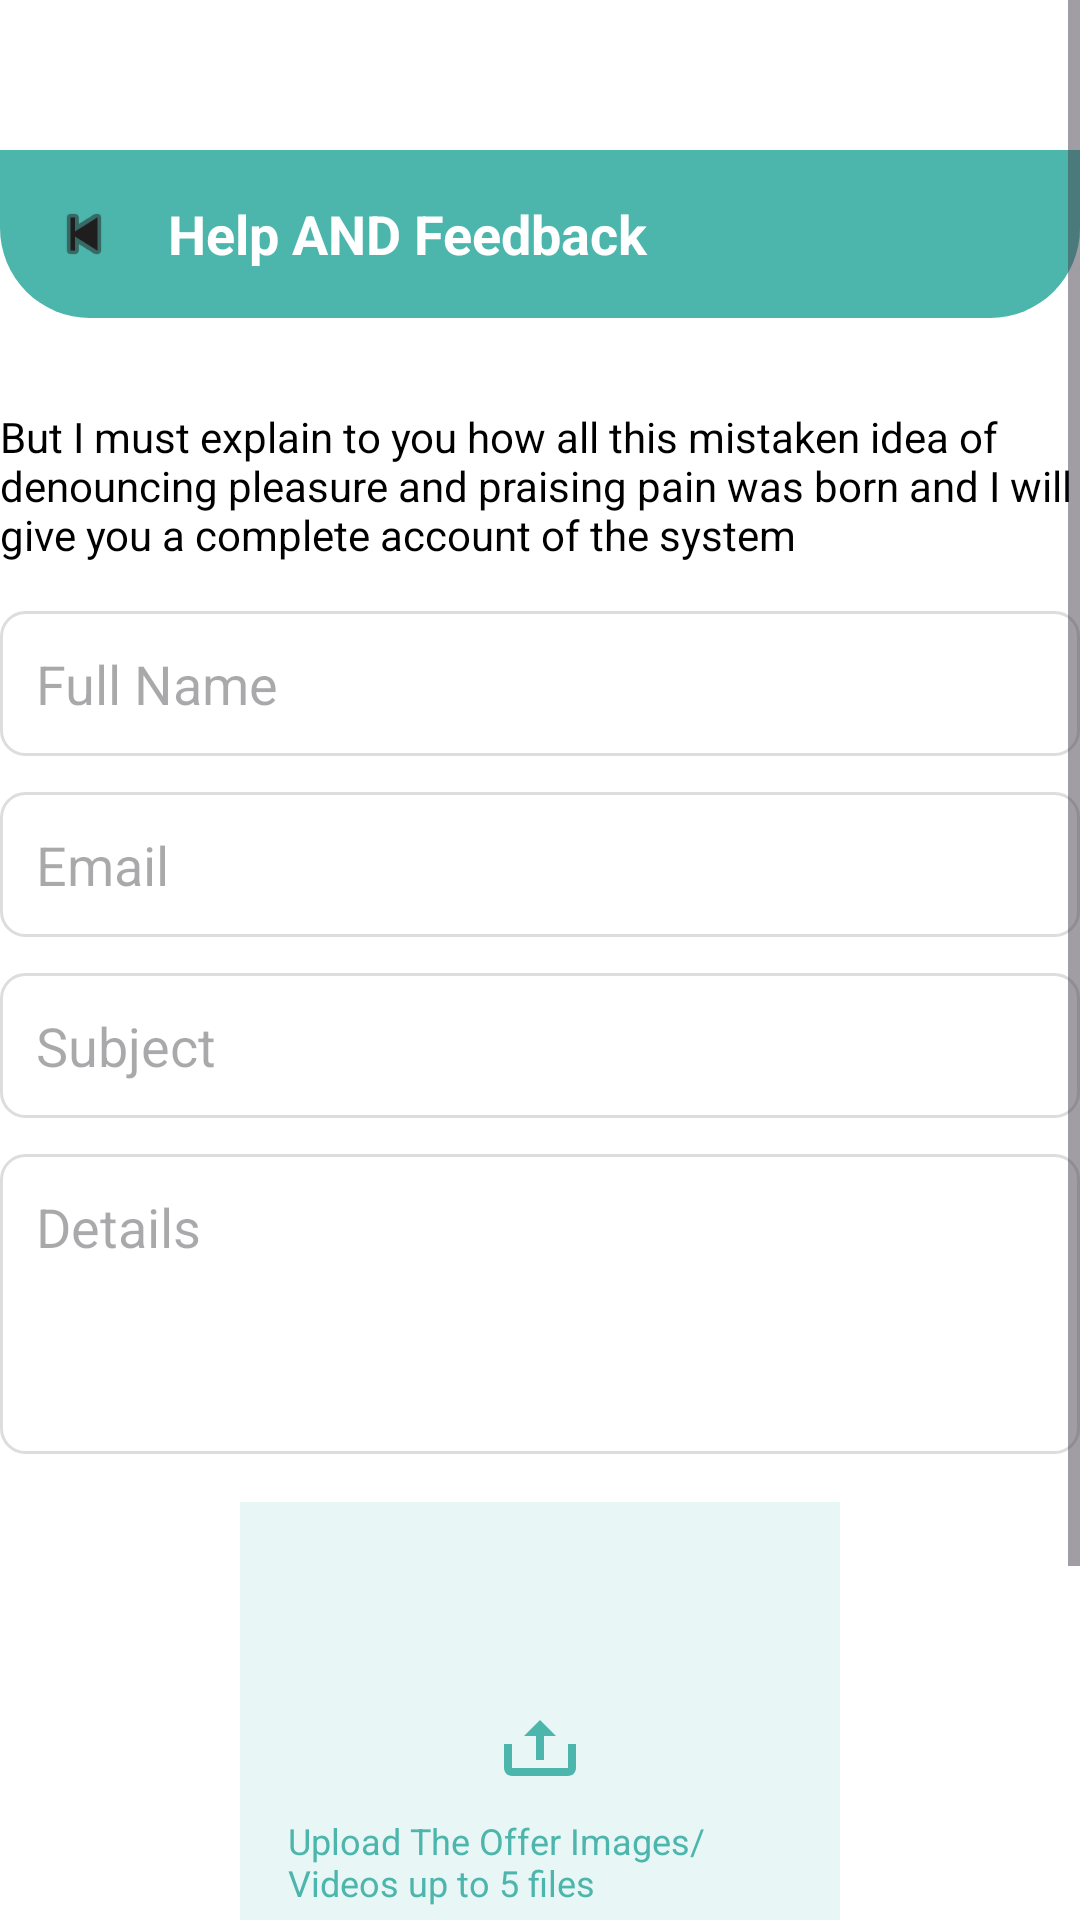

Screen size 1080w x 1920h. Icon name, then its center in pixels as point (x, y):
previous: point (84, 234)
